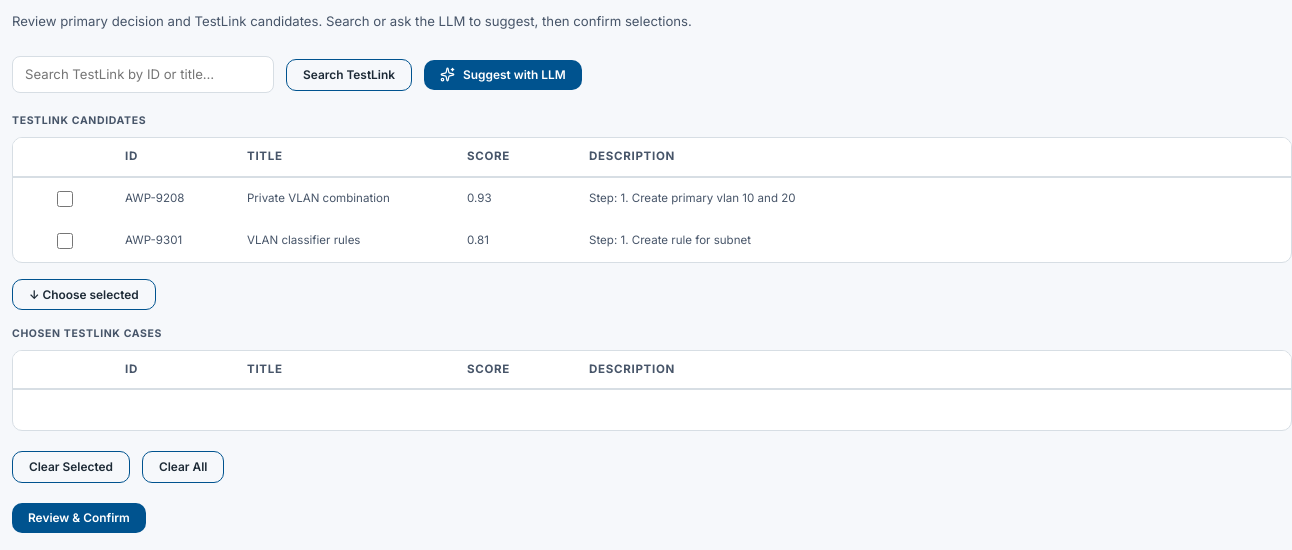
Test: OgCandidatePicker › suggest with LLM › replaces the candidates with the suggestions
Check: the text "AWP-9208" is shown, box [125,191,184,205]
Check: the text "AWP-9301" is shown, box [125,233,182,247]
Click the button "Suggest with LLM". click: {"x": 503, "y": 75}
box: [424,60,582,90]
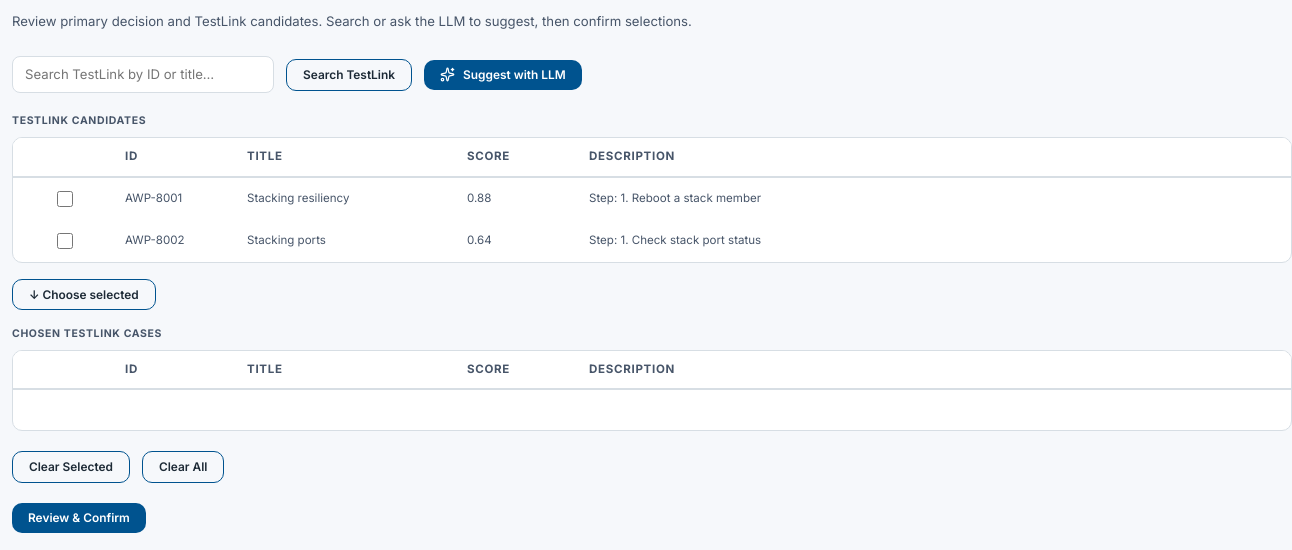
Check: the text "AWP-8001" is shown, box [125,191,182,205]
Check: the text "AWP-8002" is shown, box [125,233,185,247]
Check: the button "AWP-9208" is gone
